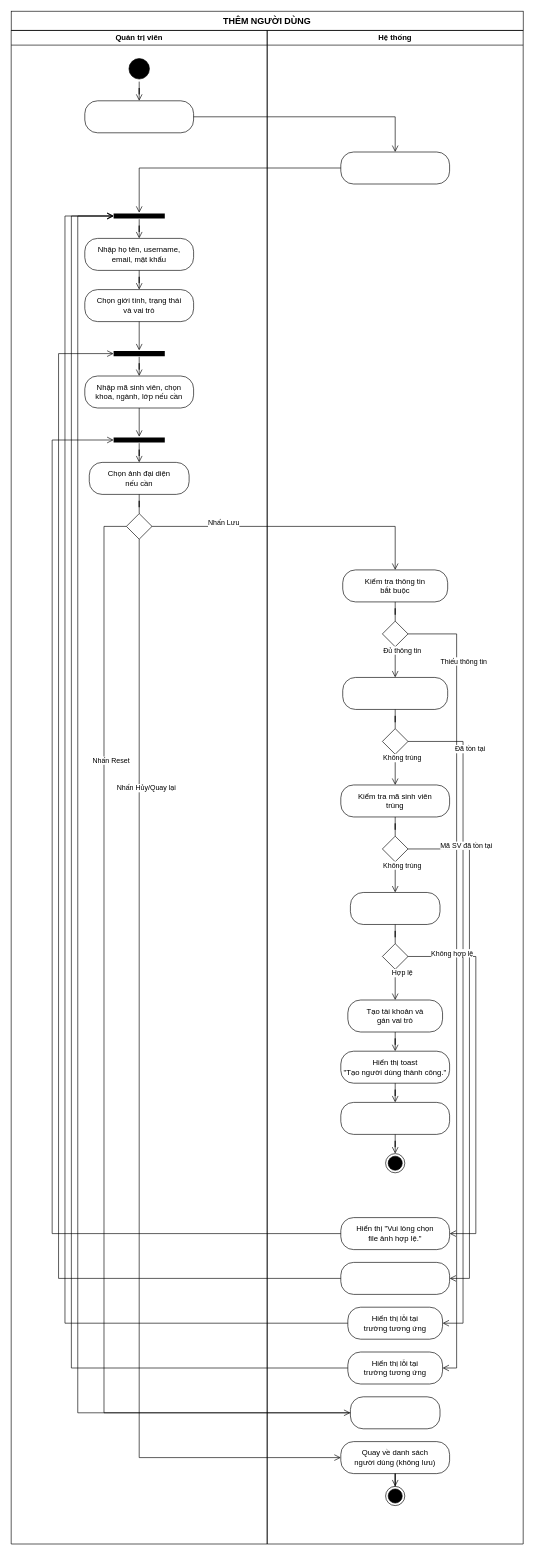
This 534x1555 diagram has some shape labels left out. The centre of each missing label's shape, as x and y in pixels:
Chuyển về màn hình "Quản lý người dùng": point (395, 1118)
Hiển thị lỗi tại trường "Mã sinh viên": point (395, 1278)
Kiểm tra username, email trùng: point (395, 693)
Kiểm tra ảnh đại diện hợp lệ: point (395, 908)
Mở màn hình "Tạo người dùng", tải khoa, ngành, lớp, vai trò: point (395, 167)
Nhấn "Thêm" trên màn hình "Quản lý người dùng": point (139, 116)
Xóa toàn bộ dữ liệu đã nhập: point (395, 1412)
